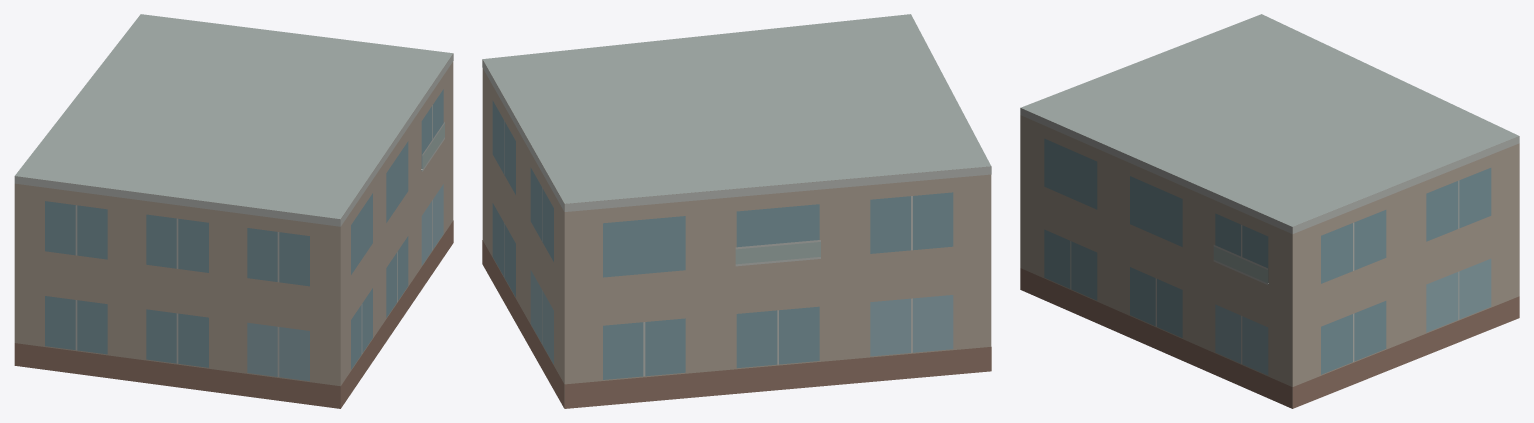
File: survey-upis-32854573.glb
The picture shows the model from 3 angles, left to right: view 1: azimuth 30°, elevation 25°; view 2: azimuth 150°, elevation 25°; view 3: azimuth 270°, elevation 25°; orthographic projection. The views are drawn at different scales.
Visible parts, largest first — view 1: survey-upis-32854573.tmp; view 2: survey-upis-32854573.tmp; view 3: survey-upis-32854573.tmp.
Part boxes in pixels (bbox=[...]): survey-upis-32854573.tmp: bbox=[14, 14, 453, 408]; survey-upis-32854573.tmp: bbox=[482, 14, 991, 408]; survey-upis-32854573.tmp: bbox=[1020, 14, 1519, 408].
Size of the model in its own units: 15.32 by 6.1 by 15.18.
